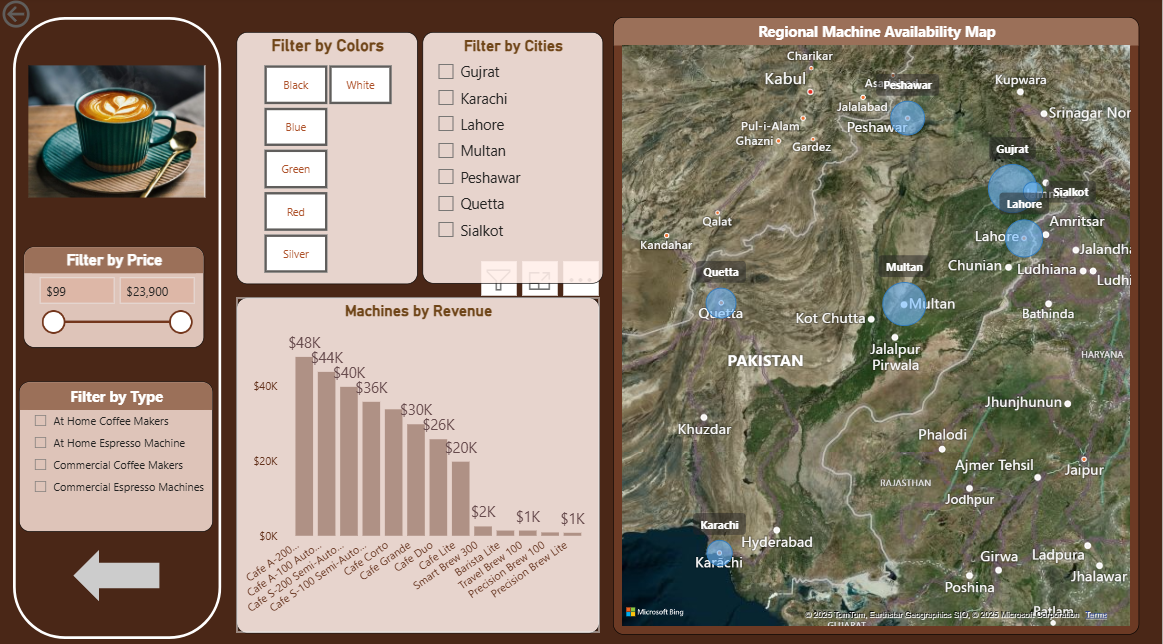

The dashboard page shown, as its layout file describes it:
{"tool":"powerbi","page":{"name":"t_4_2","canvas":[1280,720],"ordinal":5},"visuals":[{"type":"map","title":"Regional Machine Availability Map","fields":{"Size":["Order_Data_Fatima.Quantity"],"Category":["Machine_Data_Fatimaa.City"]},"box":[676,22.3,579,679.2],"z":0},{"type":"columnChart","title":"Machines by Revenue","fields":{"Y":["Order_Data_Fatima.Total_Revenue"],"Category":["Machine_Data_Fatimaa.Machine_Name"]},"box":[262.5,330.8,399.2,369],"z":1000},{"type":"shape","box":[15.9,22.3,229,684],"z":2000},{"type":"image","box":[28.6,66.8,205.2,162.2],"z":3000},{"type":"slicer","title":"Filter by Price","fields":{"Values":["Machine_Data_Fatimaa.Machine Price"]},"box":[28.6,275.2,198.8,111.3],"z":4000},{"type":"slicer","title":"Filter by Type","fields":{"Values":["Machine_Data_Fatimaa.Machine Type"]},"box":[23.9,423.1,213.1,165.4],"z":5000},{"type":"shape","box":[82.7,609.2,95.4,57.3],"z":6000},{"type":"slicer","title":"Filter by Cities","fields":{"Values":["Machine_Data_Fatimaa.City"]},"box":[466,39.8,198.8,276.8],"z":7000},{"type":"actionButton","box":[0,0,50.9,39.8],"z":8000},{"type":"slicer","title":"Filter by Colors","fields":{"Values":["Machine_Data_Fatimaa.Primary Color"]},"box":[262.3,39.6,199.6,277.1],"z":9000}]}

Visuals, with their boxes in screenshot pixels (x1, y1, x2, y2), scaled from the page's 1280x720 canvas onto the 1163x644 screenshot:
"Regional Machine Availability Map" map: left=614, top=20, right=1140, bottom=627
"Machines by Revenue" columnChart: left=239, top=296, right=601, bottom=626
shape: left=14, top=20, right=223, bottom=632
image: left=26, top=60, right=212, bottom=205
"Filter by Price" slicer: left=26, top=246, right=207, bottom=346
"Filter by Type" slicer: left=22, top=378, right=215, bottom=526
shape: left=75, top=545, right=162, bottom=596
"Filter by Cities" slicer: left=423, top=36, right=604, bottom=283
actionButton: left=0, top=0, right=46, bottom=36
"Filter by Colors" slicer: left=238, top=35, right=420, bottom=283
